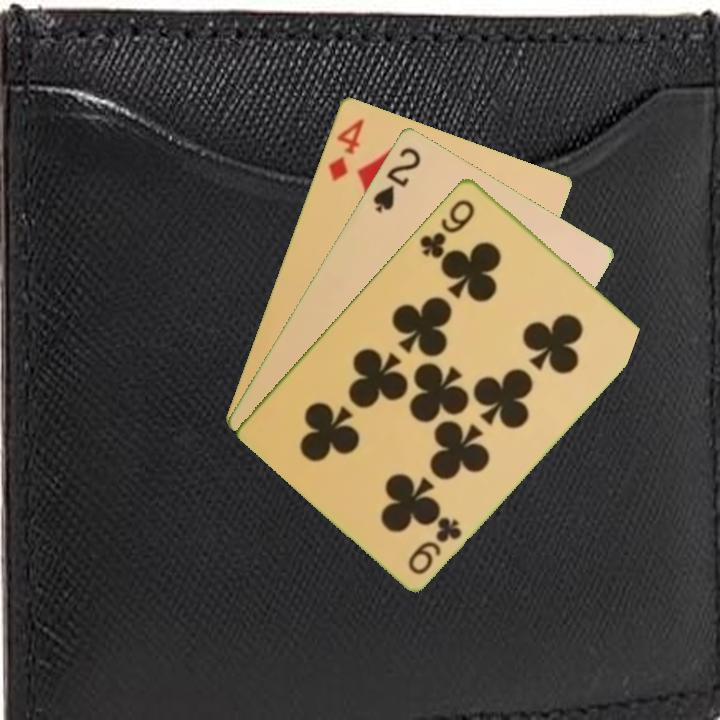2s: (369, 143, 424, 215)
4d: (324, 114, 367, 184)
9c: (416, 195, 478, 261), (404, 512, 465, 577)
